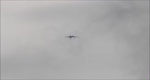maybay_muctieu: (66, 34, 80, 40)
